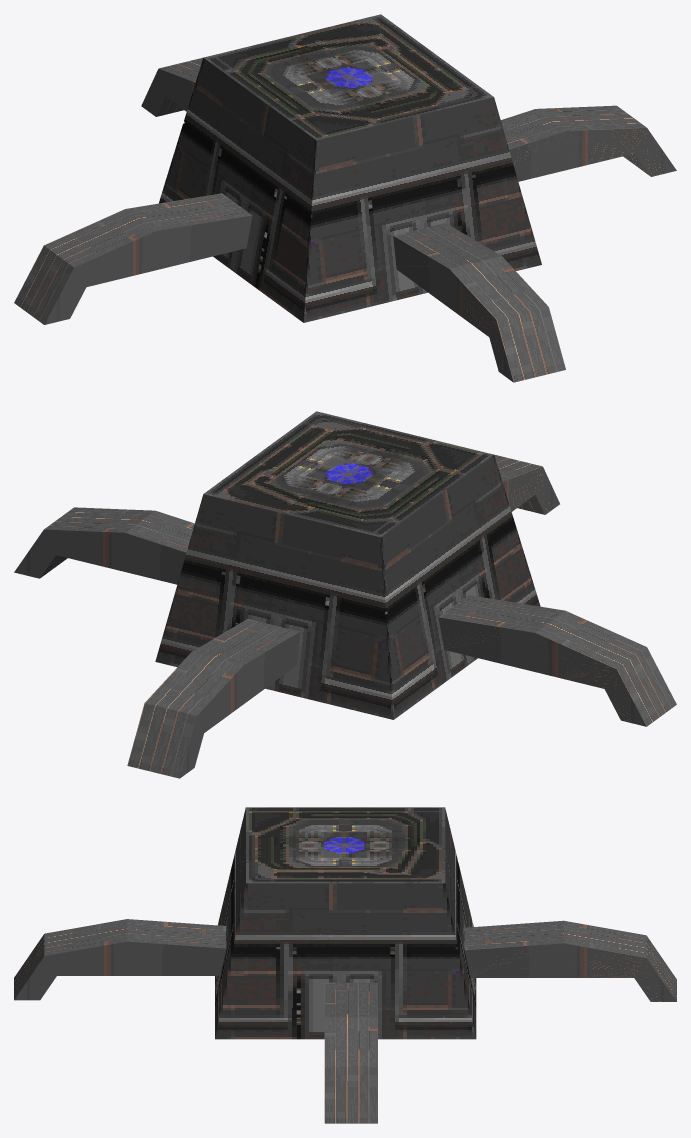
The model's file is bunker.obj.
The picture shows the model from 3 angles, top to bottom: view 1: azimuth 30°, elevation 25°; view 2: azimuth 150°, elevation 25°; view 3: azimuth 270°, elevation 25°; orthographic projection. The views are drawn at different scales.
Bounding box in the file's own units: 18.82 × 4.61 × 19.4.
3 materials, 3 textured.
